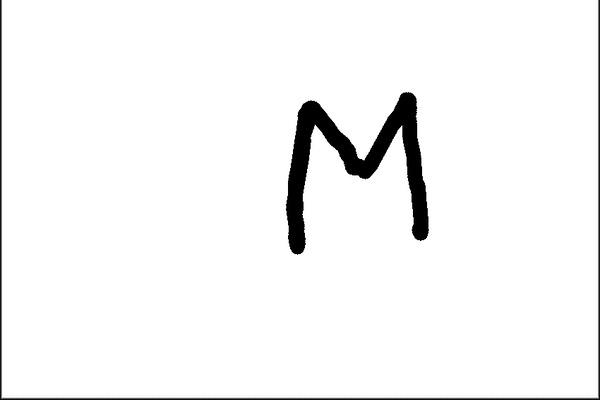M: (282, 88, 432, 248)
